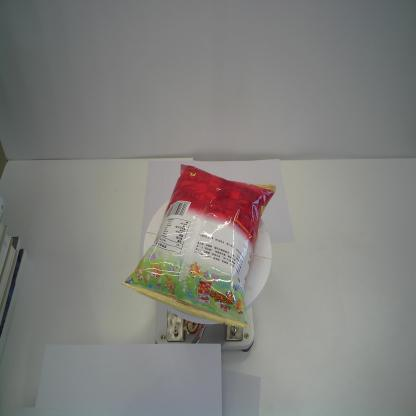Puffed Food: (120, 162, 276, 331)
